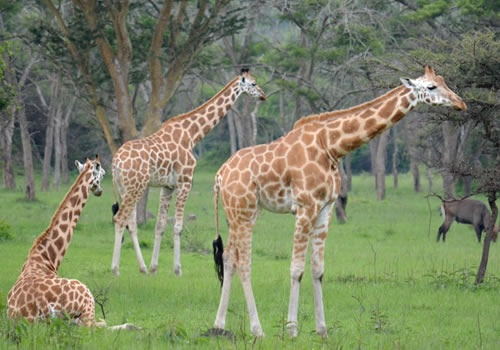giraffe: (202, 59, 471, 344), (103, 63, 269, 280), (3, 154, 136, 332)
